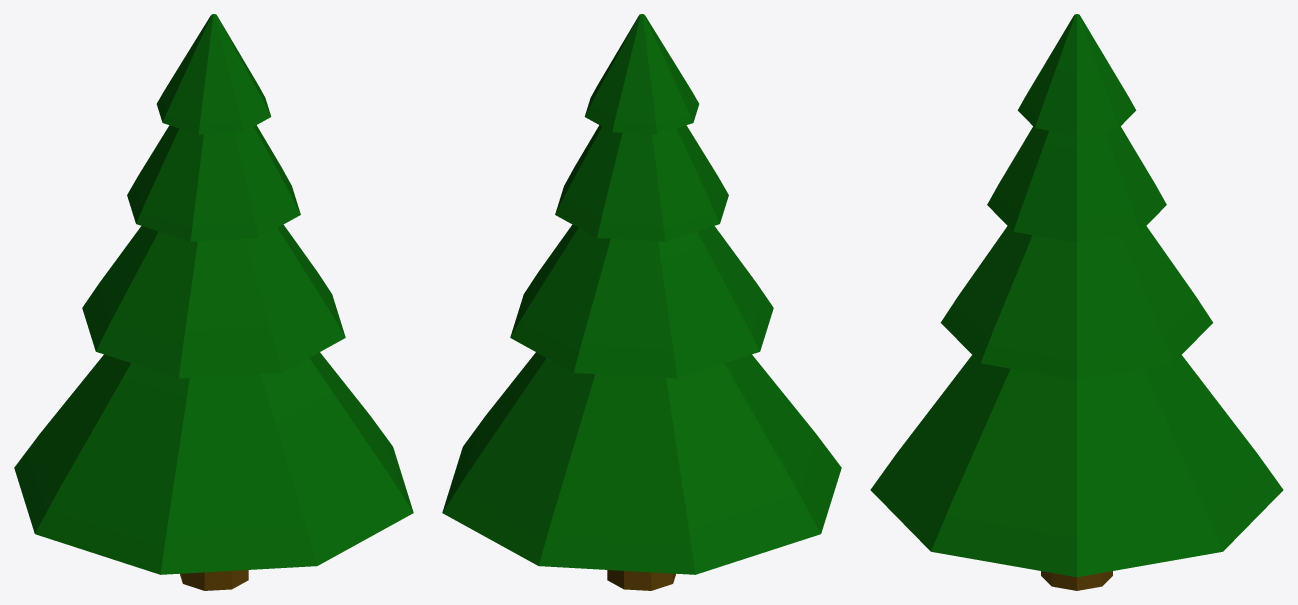
The model's file is pine.glb.
The picture shows the model from 3 angles, left to right: view 1: azimuth 30°, elevation 25°; view 2: azimuth 150°, elevation 25°; view 3: azimuth 270°, elevation 25°; orthographic projection.
Visible parts, largest first — view 1: pCylinder2; view 2: pCylinder2; view 3: pCylinder2.
Boxes of the visible parts, box(x1,y1,x2,y2) form: pCylinder2: box(14, 14, 413, 590); pCylinder2: box(442, 14, 841, 590); pCylinder2: box(870, 14, 1283, 590).
Bounding box in the file's own units: 1.88 × 2.81 × 1.88.
Materials: 1 (1 with a texture image).
